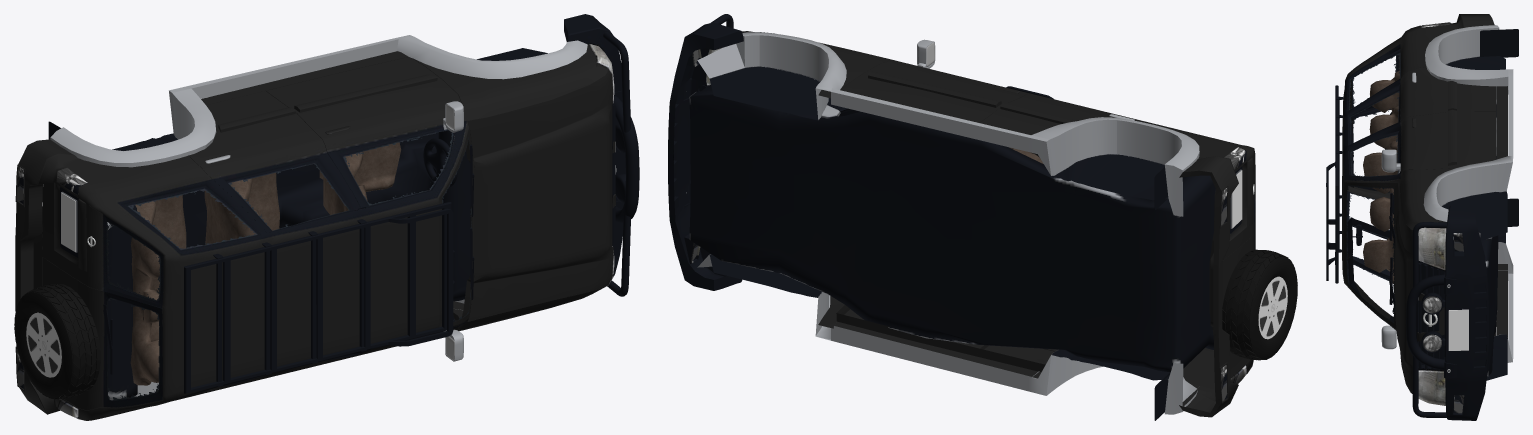
File: suv_chassis_darkgrey.obj
3 views of the same model, side by side, from view 1: azimuth 30°, elevation 25°; view 2: azimuth 150°, elevation 25°; view 3: azimuth 270°, elevation 25° (orthographic). The views are drawn at different scales.
Parts seen in each view (by area): view 1: Nissan_Chassis_OBJ_0331; view 2: Nissan_Chassis_OBJ_0331; view 3: Nissan_Chassis_OBJ_0331.
Part boxes in pixels (<box>): Nissan_Chassis_OBJ_0331: <box>14,14,639,420</box>; Nissan_Chassis_OBJ_0331: <box>668,14,1297,420</box>; Nissan_Chassis_OBJ_0331: <box>1326,14,1518,420</box>.
Size of the model in its own units: 5.33 by 2.24 by 1.91.
7 materials, 7 textured.
